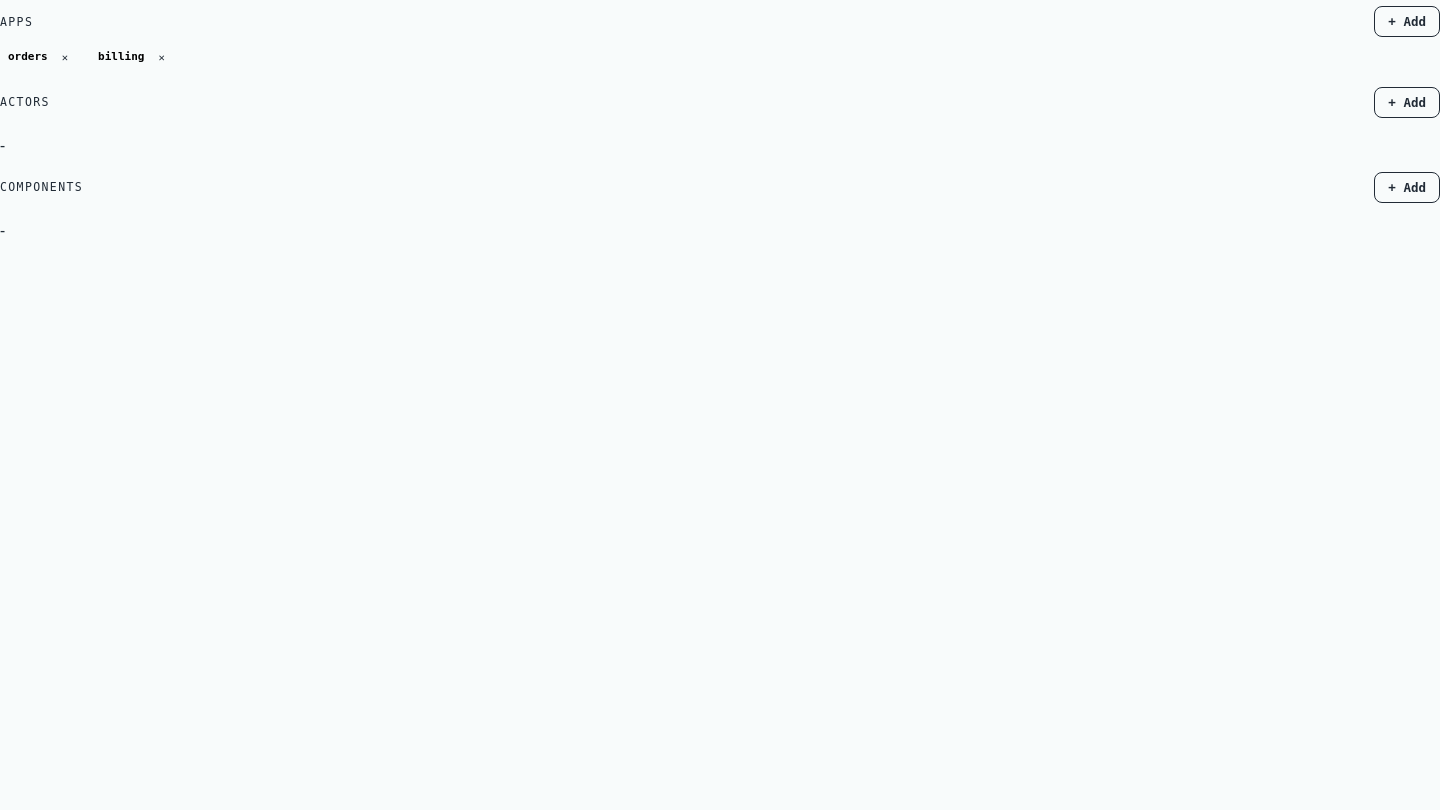
Test case: StepTargets › blocks renaming an app target onto another existing app target
The width and height of the screenshot is (1440, 810).
Click the button with aria-label "edit orders" at (28,56), box x1=8 y1=50 x2=48 y2=63
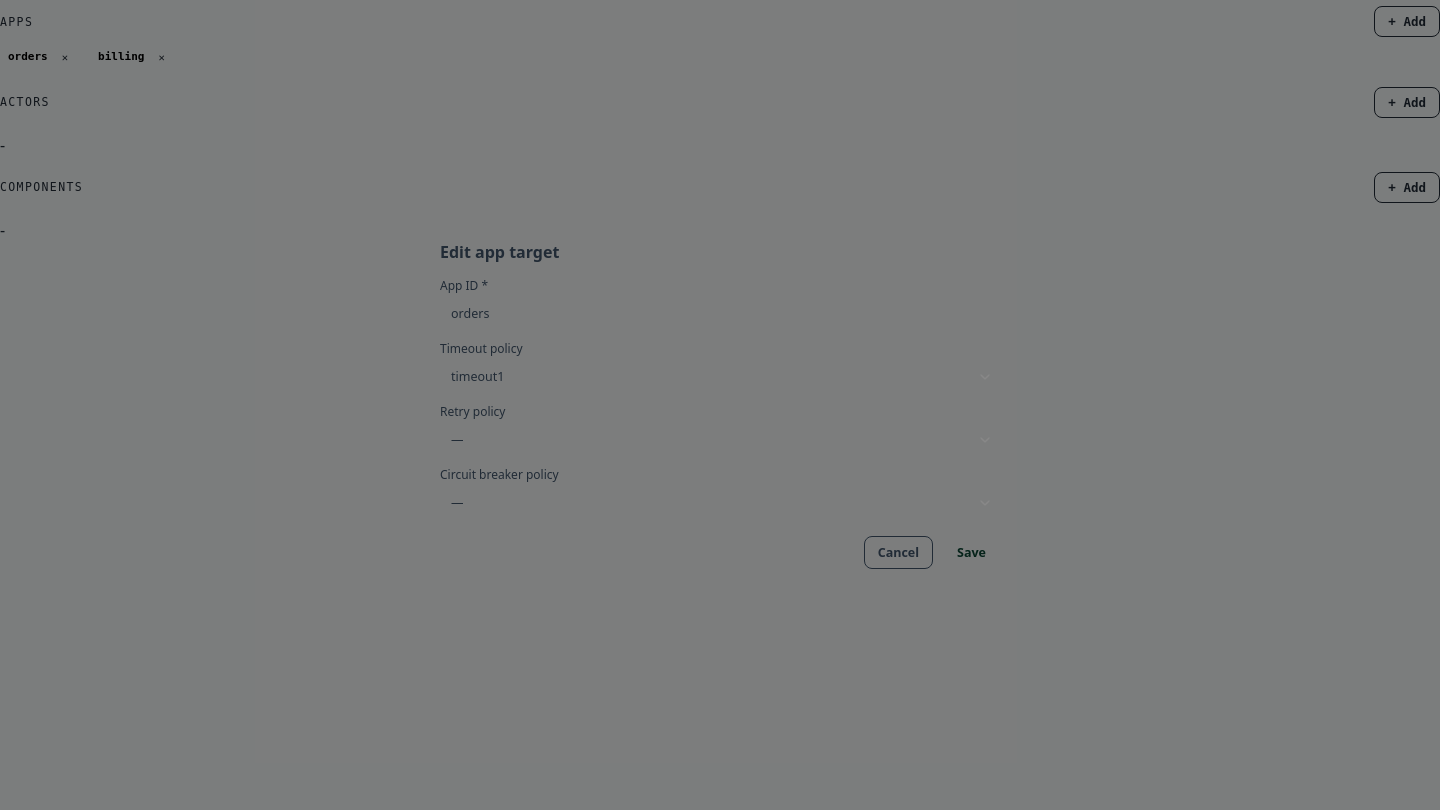
Replace the text in the field named "app id" with "billing" at (731,314), box x1=440 y1=298 x2=1022 y2=329
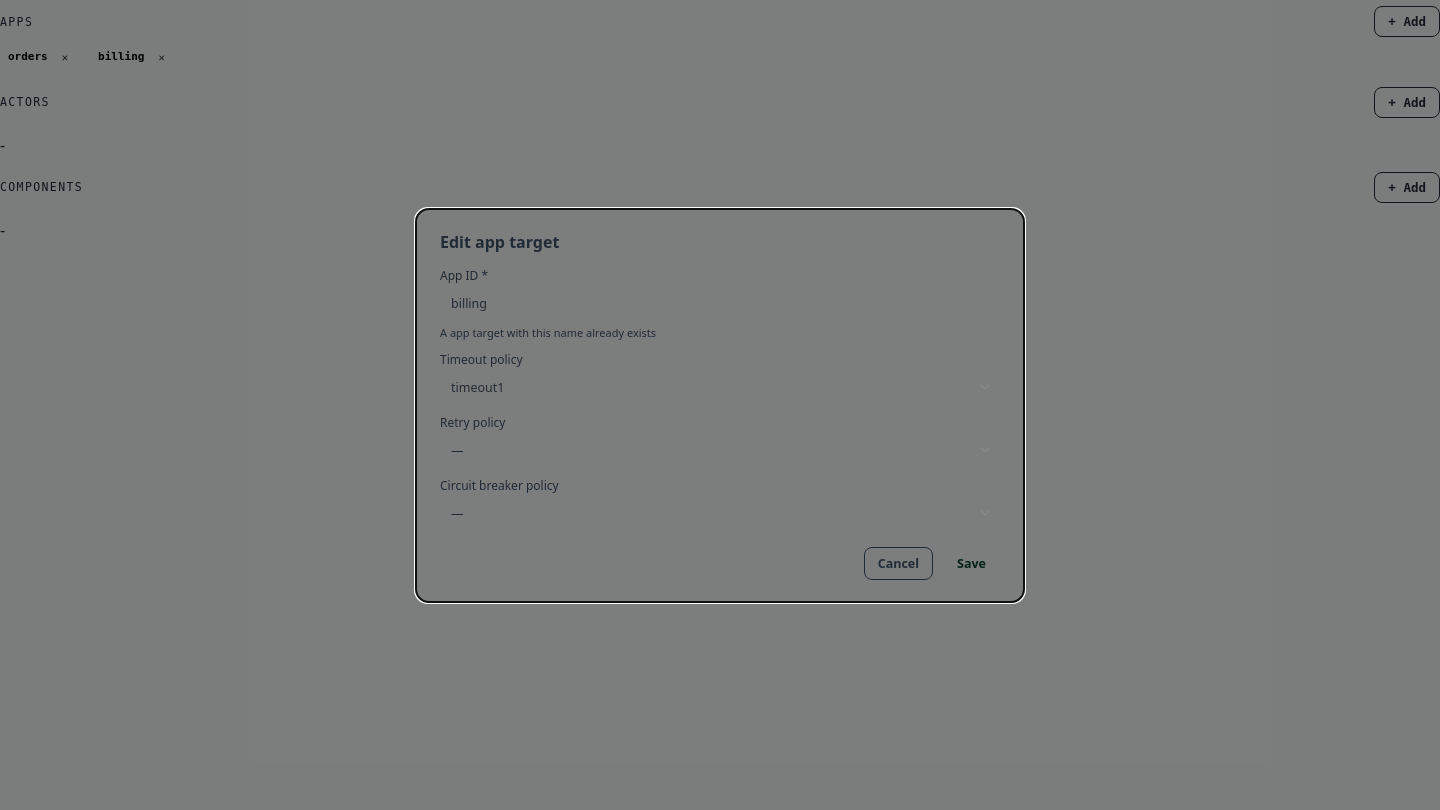
Expected: the text "A app target with this name already exists" is shown, x1=440 y1=324 x2=656 y2=340
Expected: the button "Save" is disabled, x1=943 y1=546 x2=1000 y2=580
